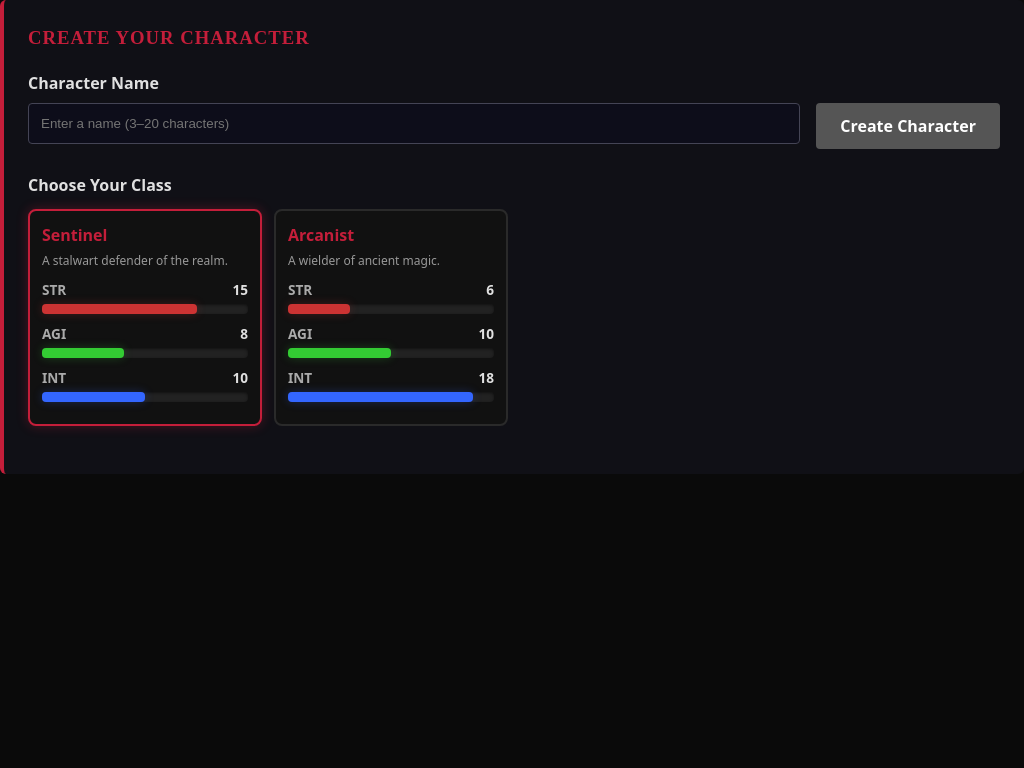
Test case: CharacterCreator › shows error message when creation fails
Expected: the button with test id "class-card-1" is shown, [28,209,262,426]
Type "TakenName" into the field with placeholder "3.20 characters" at point(414, 123), box [28,103,800,144]
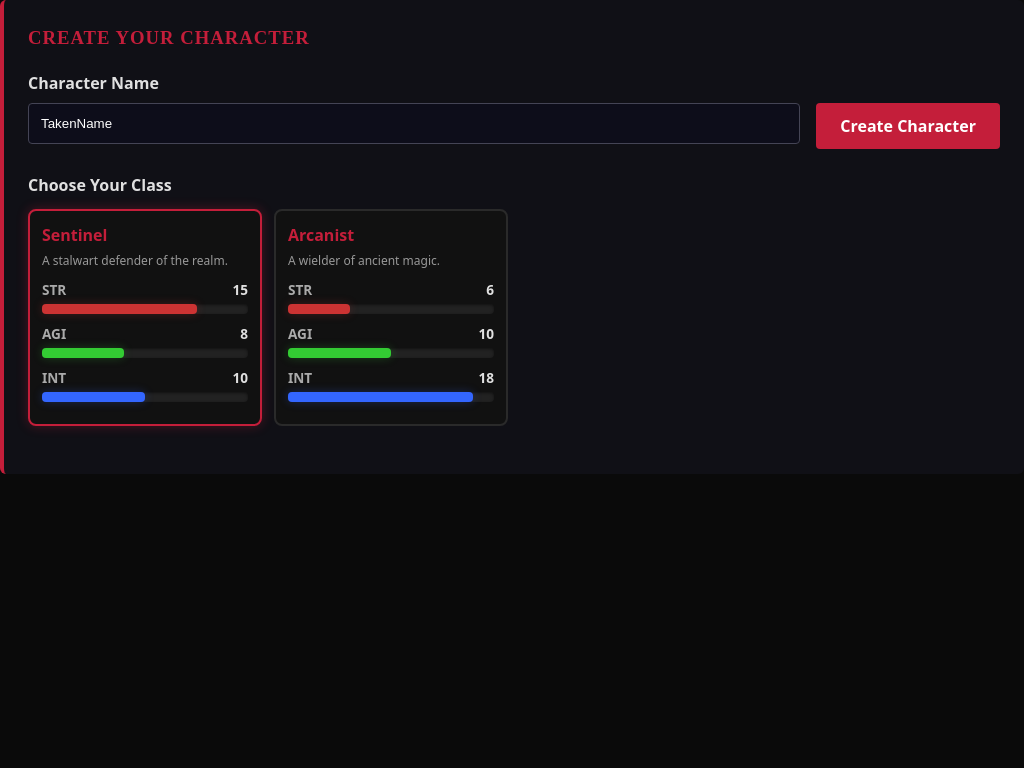
Click the button "Create Character" at point(908, 126), box [816,103,1000,149]
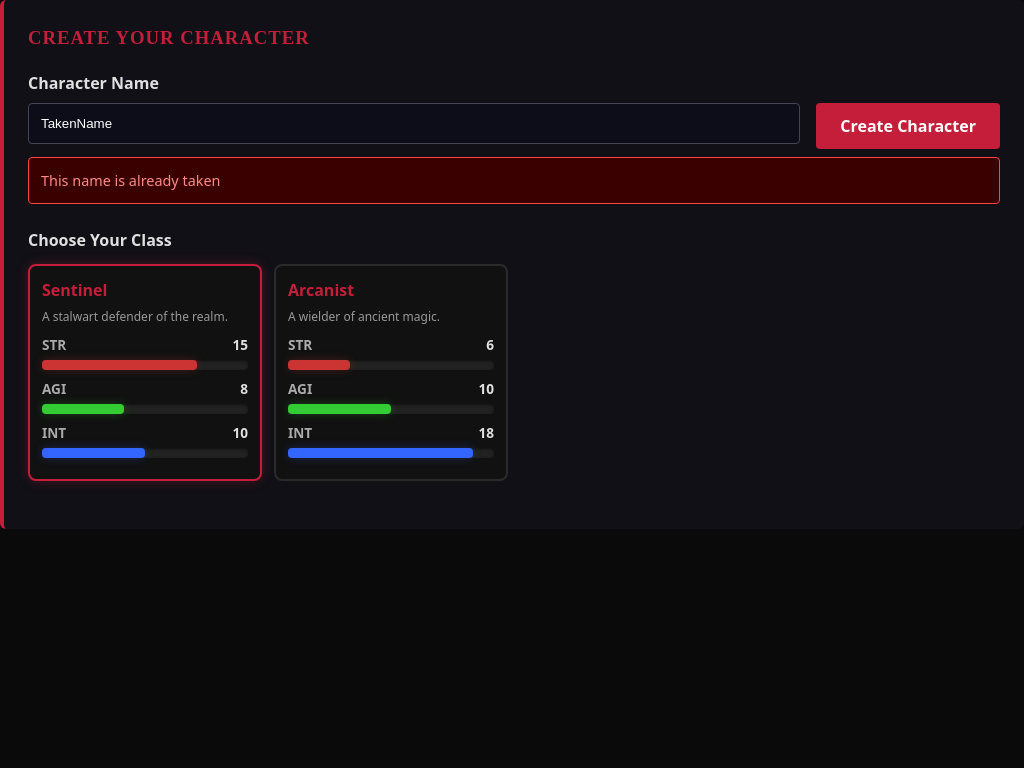
Expected: the text with test id "submit-error" shows "already taken", [41,171,220,190]
